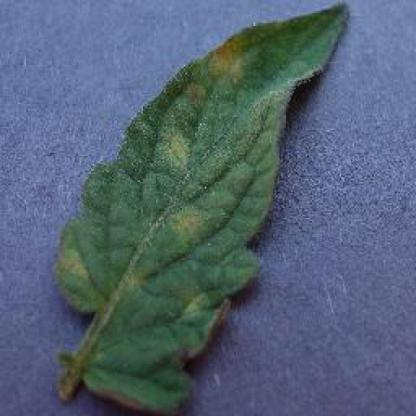Tomato_Leaf_Mold: (54, 4, 351, 414)
